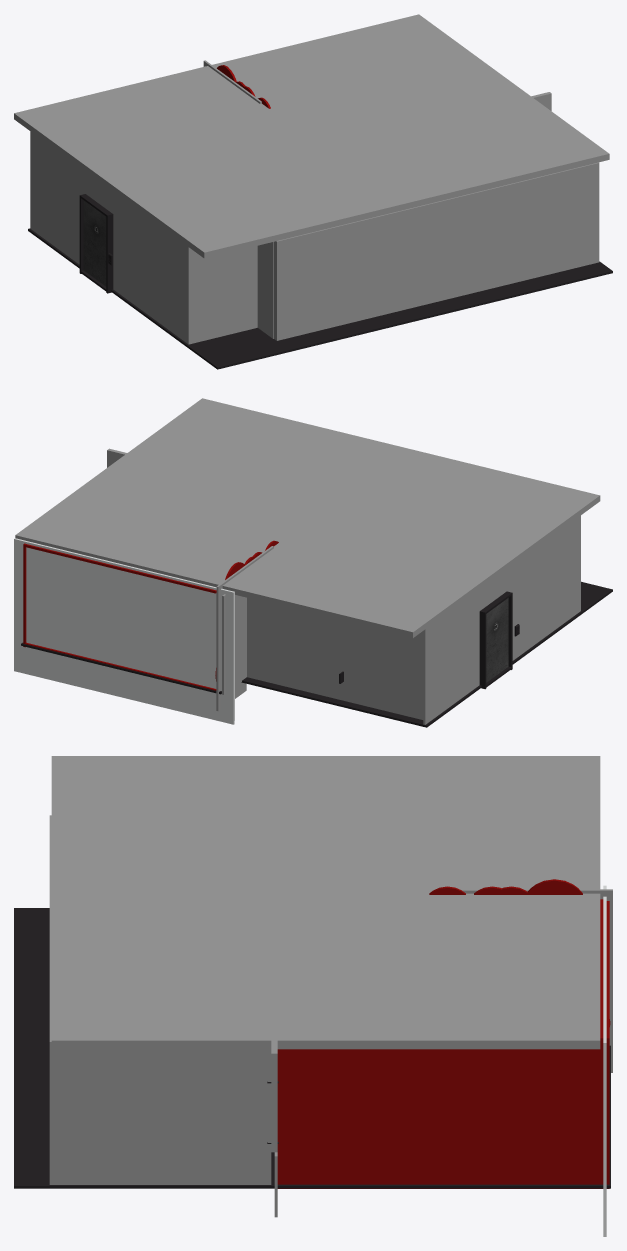
Rendered from SCP 035 Containment Chamber.obj.
The picture shows the model from 3 angles, top to bottom: view 1: azimuth 30°, elevation 25°; view 2: azimuth 150°, elevation 25°; view 3: azimuth 270°, elevation 25°; orthographic projection. The views are drawn at different scales.
Visible parts, largest first — view 1: Part5, Part3, Part55, Part6, Part2, Part8, Part19, Door8, Part50, Part54, Part110; view 2: Part5, Part49, Part61, Part55, Part2, Part31, Part8, Door8, Part25, Part26, Part42, Part54 (+4 smaller); view 3: Part5, Part48, Part38, Part58, Part56, Part19, Part8, Part28, Part39, Part49, Part52, Part26 (+2 smaller).
Part boxes in pixels (x1=…): Part5: x1=14, y1=14, x2=609, y2=258; Part3: x1=274, y1=163, x2=597, y2=340; Part55: x1=113, y1=192, x2=188, y2=343; Part6: x1=188, y1=246, x2=257, y2=344; Part2: x1=30, y1=131, x2=84, y2=264; Part8: x1=28, y1=228, x2=409, y2=369; Part19: x1=397, y1=261, x2=612, y2=322; Door8: x1=83, y1=200, x2=106, y2=286; Part50: x1=257, y1=242, x2=273, y2=338; Part54: x1=84, y1=171, x2=113, y2=213; Part110: x1=106, y1=213, x2=113, y2=293; Part5: x1=15, y1=398, x2=600, y2=637; Part49: x1=14, y1=538, x2=234, y2=724; Part61: x1=247, y1=597, x2=354, y2=703; Part55: x1=506, y1=516, x2=580, y2=660; Part2: x1=423, y1=590, x2=479, y2=724; Part31: x1=362, y1=626, x2=423, y2=719; Part8: x1=241, y1=581, x2=612, y2=727; Door8: x1=486, y1=598, x2=508, y2=682; Part25: x1=222, y1=594, x2=246, y2=694; Part26: x1=216, y1=566, x2=246, y2=711; Part42: x1=25, y1=544, x2=216, y2=593; Part54: x1=478, y1=570, x2=506, y2=611; Part5: x1=51, y1=756, x2=600, y2=1049; Part48: x1=49, y1=1040, x2=269, y2=1184; Part38: x1=277, y1=1102, x2=485, y2=1188; Part58: x1=277, y1=1037, x2=609, y2=1101; Part56: x1=491, y1=1102, x2=609, y2=1188; Part19: x1=14, y1=1042, x2=269, y2=1188; Part8: x1=14, y1=908, x2=49, y2=1042; Part28: x1=269, y1=1045, x2=610, y2=1188; Part39: x1=485, y1=1163, x2=564, y2=1188; Part49: x1=603, y1=885, x2=606, y2=1236; Part52: x1=600, y1=899, x2=603, y2=1184; Part26: x1=579, y1=889, x2=612, y2=1072.
Size of the model in its own units: 44.76 by 14.6 by 37.52.
28 materials, 9 textured.
